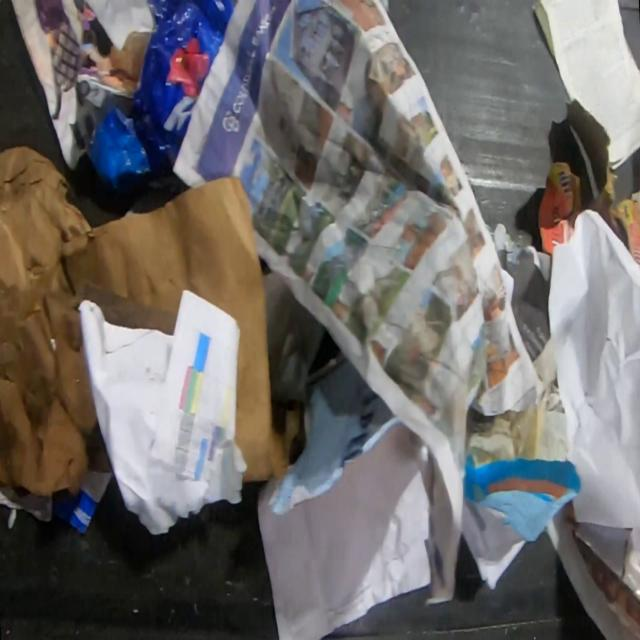cardboard: (565, 97, 640, 266), (537, 162, 586, 256)
soft_plastic: (86, 0, 238, 191)
